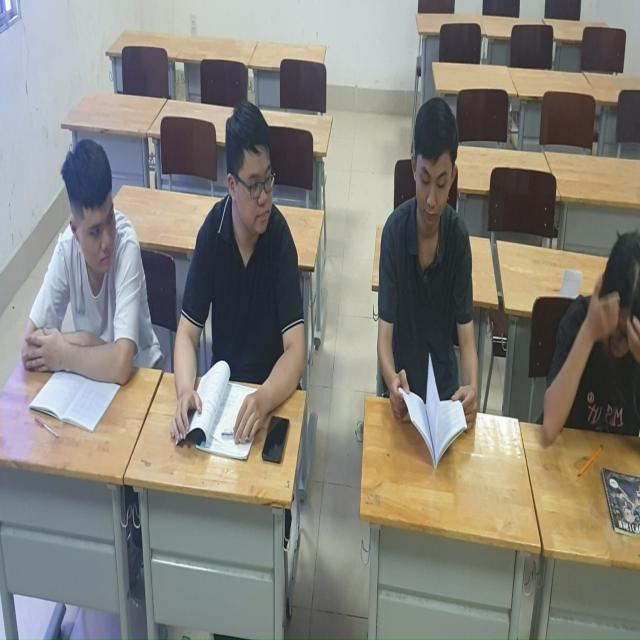read: (152, 112, 317, 456), (359, 86, 487, 470), (29, 119, 145, 426), (541, 230, 640, 459)
